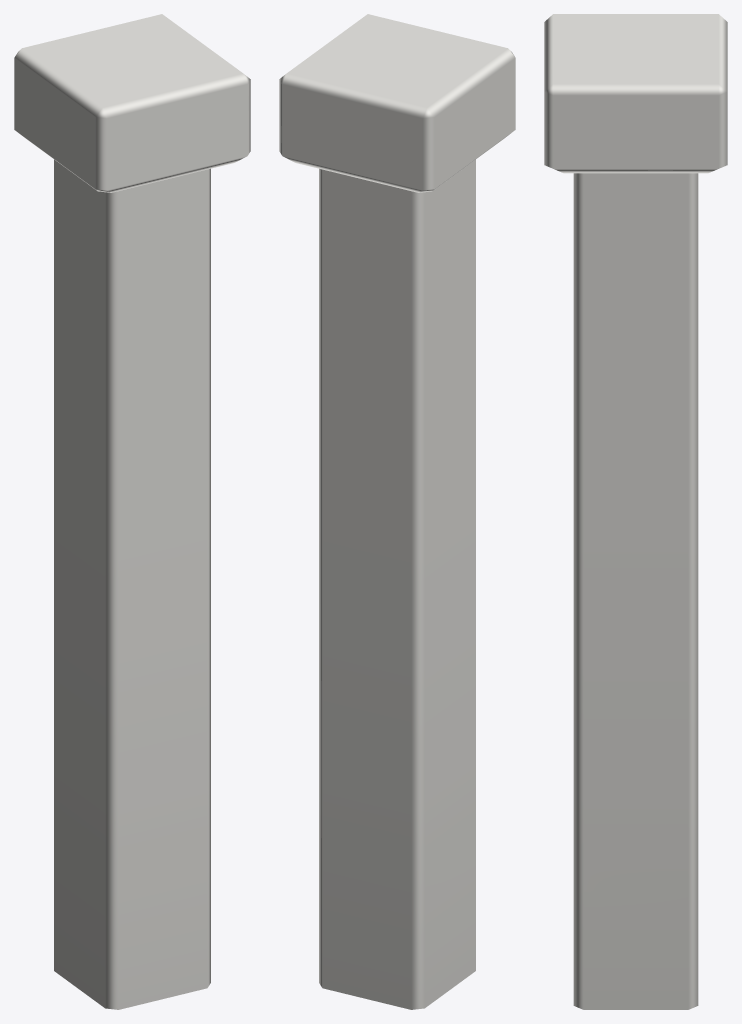
File: WallPillar.fbx
3 renders of one model, left to right at view 1: azimuth 30°, elevation 25°; view 2: azimuth 150°, elevation 25°; view 3: azimuth 270°, elevation 25°, orthographic. The views are drawn at different scales.
Parts seen in each view (by area): view 1: WallPillar; view 2: WallPillar; view 3: WallPillar.
Boxes of the visible parts, bbox=[...] form: WallPillar: bbox=[14, 14, 250, 1009]; WallPillar: bbox=[279, 14, 515, 1009]; WallPillar: bbox=[544, 14, 727, 1009].
Size of the model in its own units: 104 by 584 by 104.
